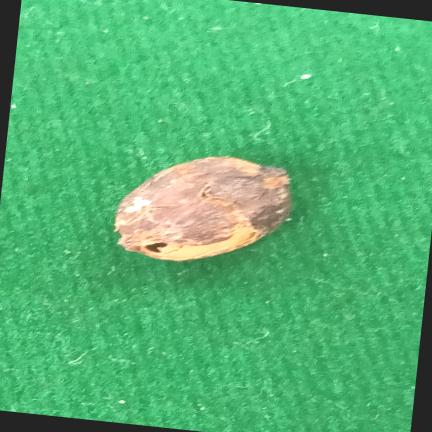full-black: (115, 157, 291, 261)
